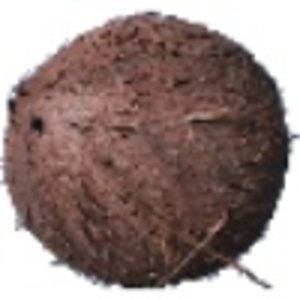coco: (2, 11, 300, 289)
